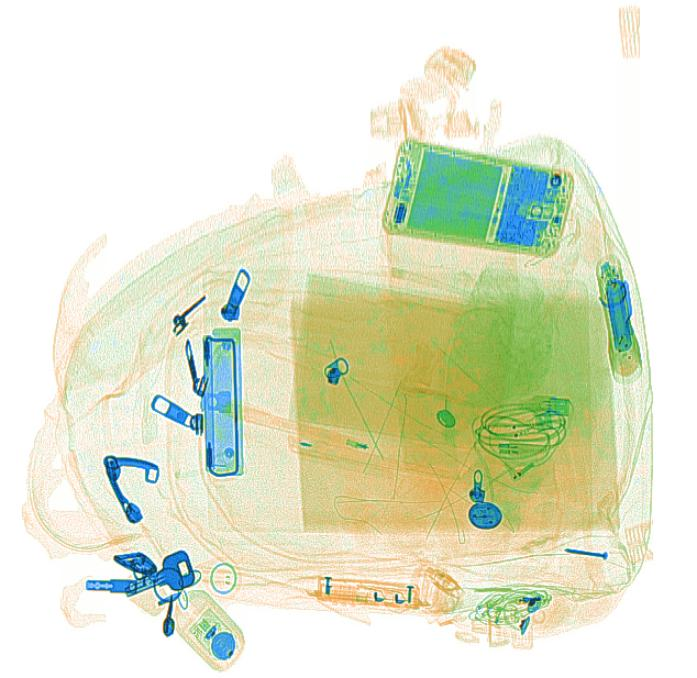battery: (604, 277, 632, 352)
